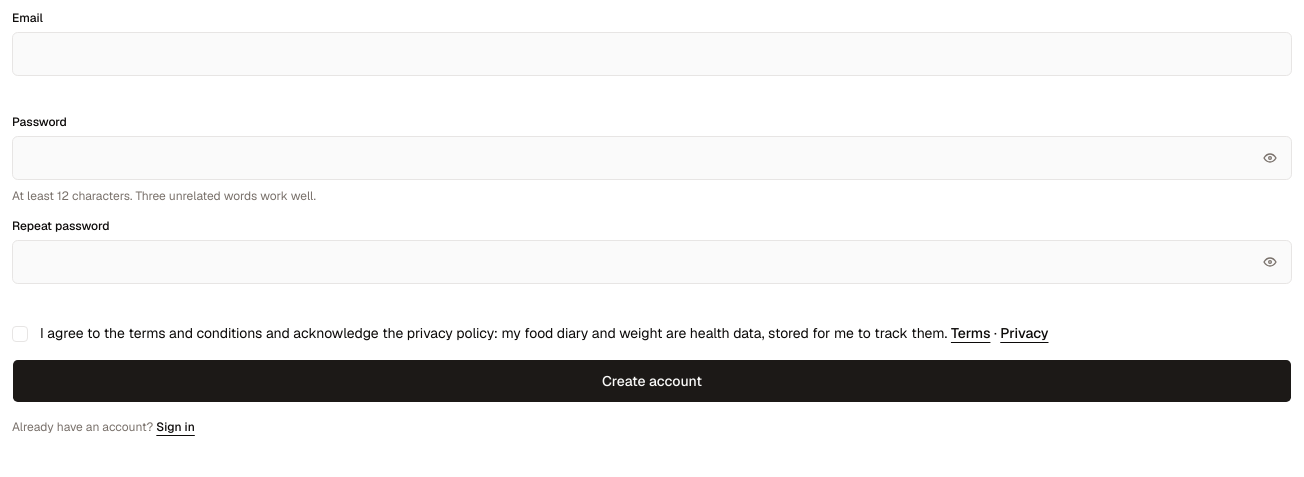
it: SignUpForm › requires agreeing to the terms before creating the account
This screenshot has width=1304, height=477.
In the field labelled "Email": (652,54) x1=12 y1=32 x2=1292 y2=76, type "eater@example.test"
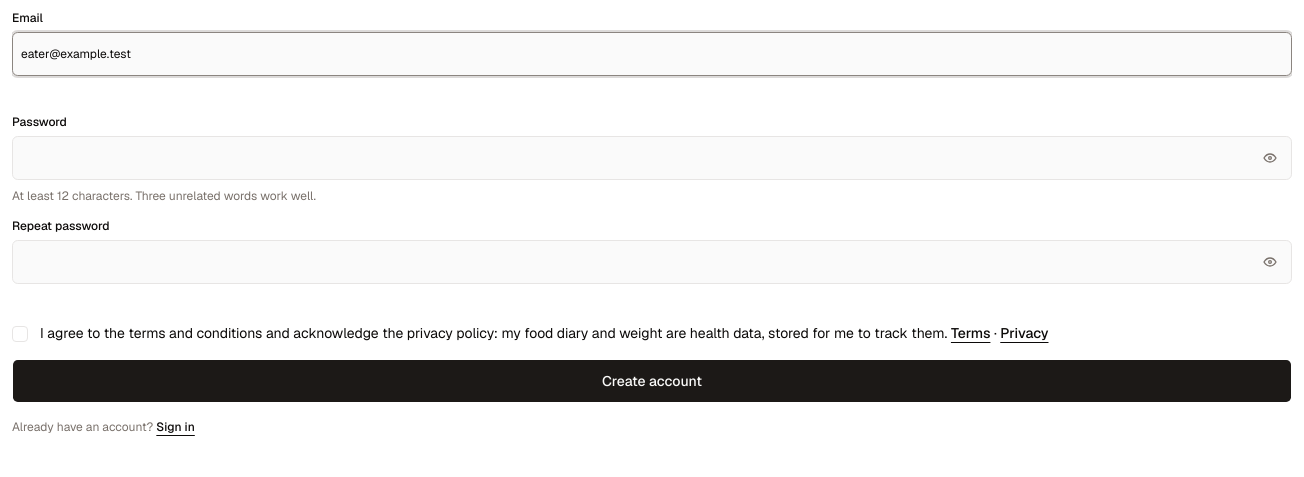
In the password field labelled "Password": (652,158) x1=12 y1=136 x2=1292 y2=180, type "lentils-and-rice-forever"
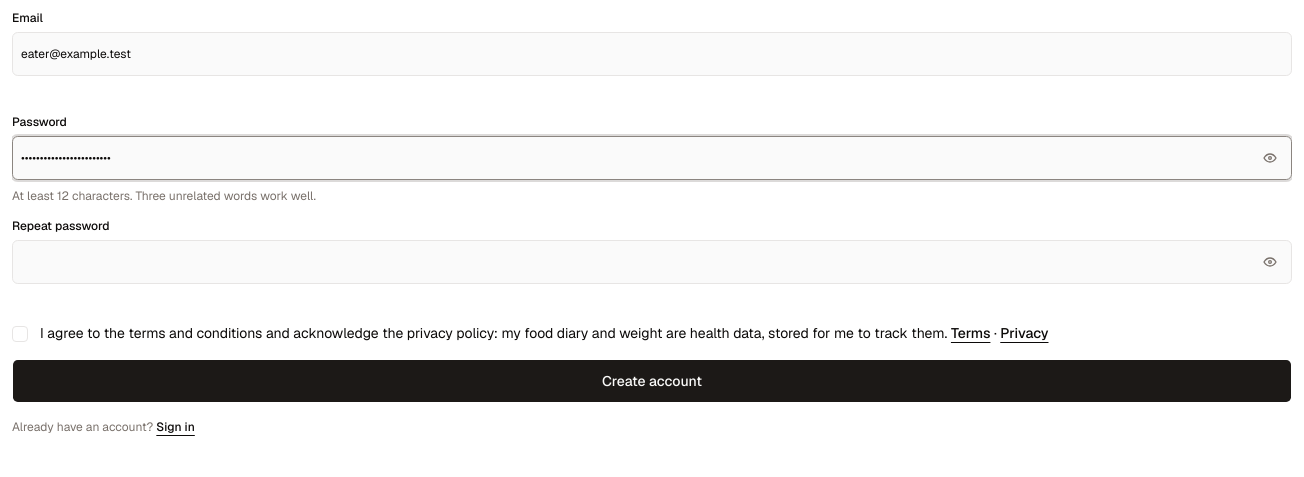
In the password field labelled "Repeat password": (652,262) x1=12 y1=240 x2=1292 y2=284, type "lentils-and-rice-forever"
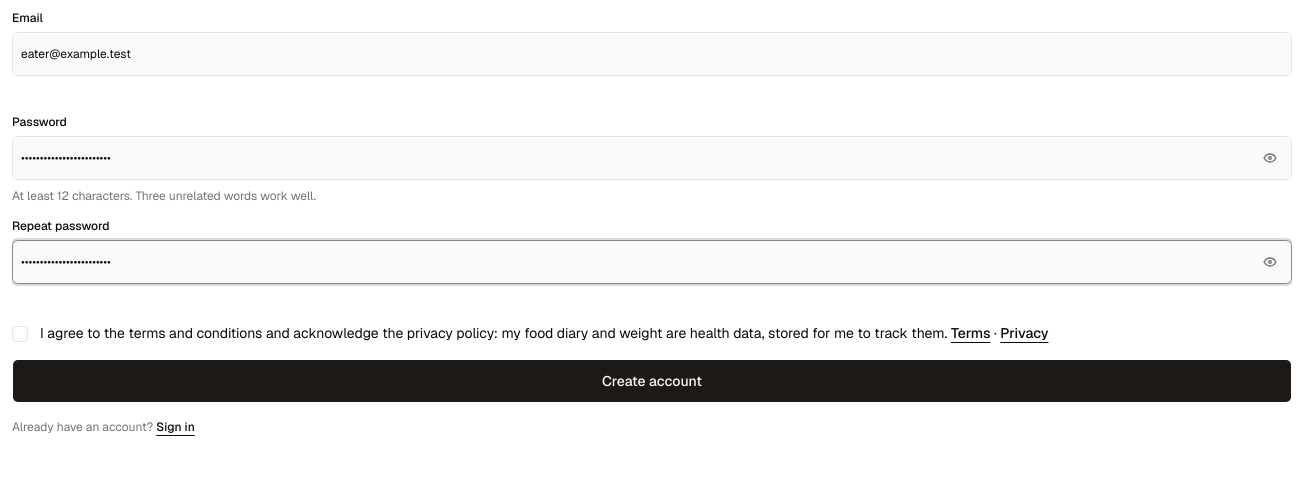
Click the button "Create account": (652,381) x1=12 y1=359 x2=1292 y2=403
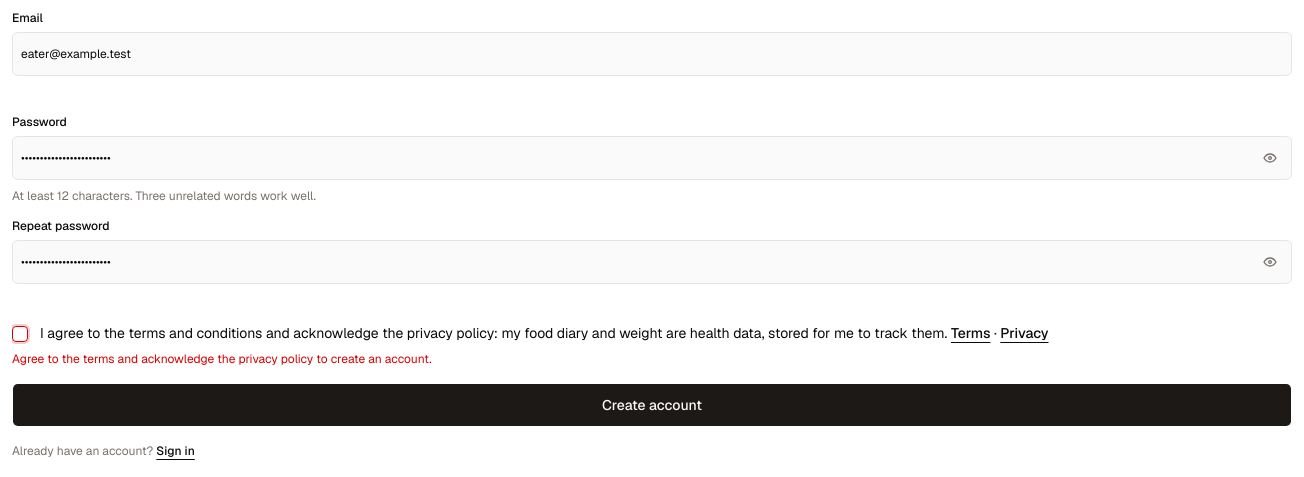
Expected: the text "Agree to the terms and acknowledge the privacy policy to create an account." is shown, x1=12 y1=351 x2=432 y2=367
